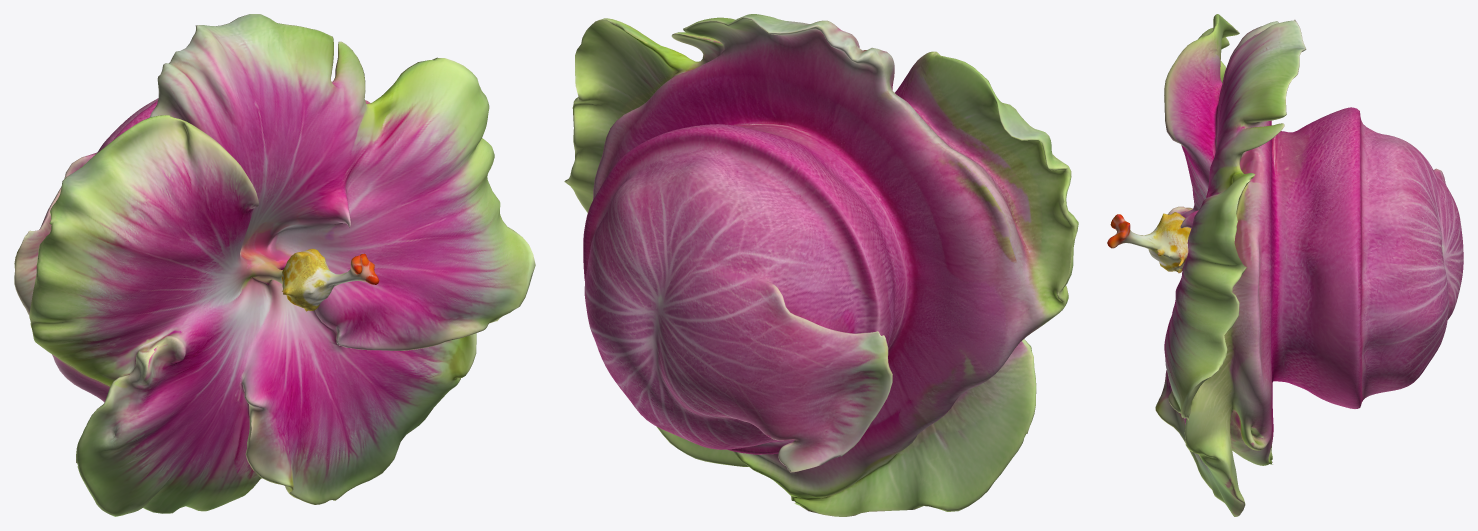
File: hibiscus.glb
3 views of the same model, side by side, from view 1: azimuth 30°, elevation 25°; view 2: azimuth 150°, elevation 25°; view 3: azimuth 270°, elevation 25° (orthographic). The views are drawn at different scales.
Bounding box in the file's own units: 1.9 × 1.77 × 1.31.
1 material, 1 textured.
